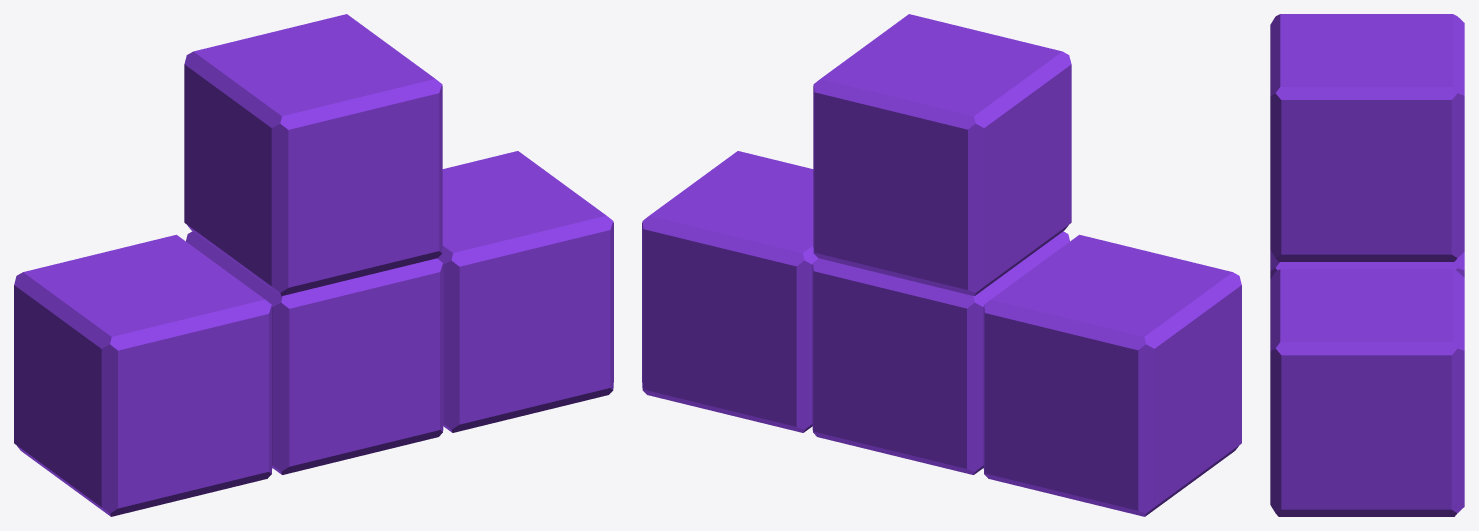
The model's file is pieza4.fbx.
The picture shows the model from 3 angles, left to right: view 1: azimuth 30°, elevation 25°; view 2: azimuth 150°, elevation 25°; view 3: azimuth 270°, elevation 25°; orthographic projection. The views are drawn at different scales.
Parts seen in each view (by area): view 1: Cube.003, Cube.001, Cube.002, Cube; view 2: Cube.003, Cube.001, Cube.002, Cube; view 3: Cube.003, Cube.002, Cube.
Boxes of the visible parts, left/top/right/bottom form: Cube.003: left=184, top=14, right=442, bottom=296; Cube.001: left=14, top=234, right=272, bottom=516; Cube.002: left=437, top=151, right=613, bottom=432; Cube: left=186, top=231, right=443, bottom=474; Cube.003: left=813, top=14, right=1071, bottom=296; Cube.001: left=983, top=234, right=1241, bottom=516; Cube.002: left=642, top=151, right=818, bottom=432; Cube: left=812, top=231, right=1069, bottom=474; Cube.003: left=1270, top=14, right=1464, bottom=261; Cube.002: left=1270, top=269, right=1464, bottom=516; Cube: left=1270, top=250, right=1464, bottom=279.
Size of the model in its own units: 633 by 423 by 213.
